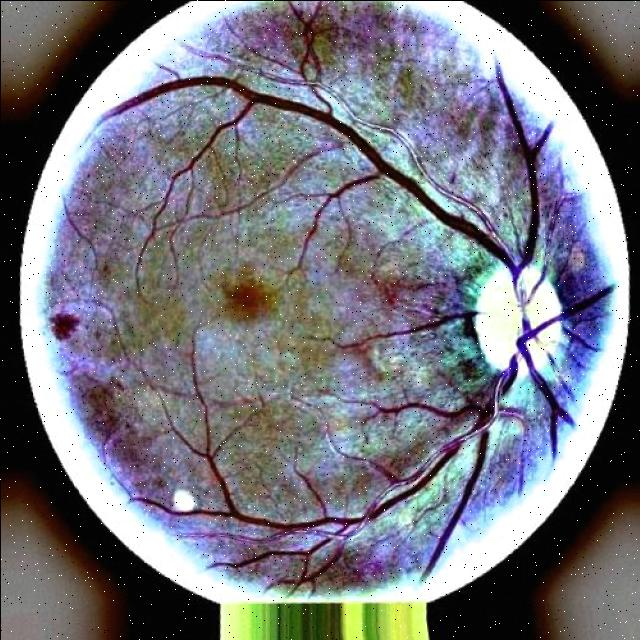Macula: (223, 269, 278, 321)
Nerves: (100, 0, 612, 590)
Optic Disk: (474, 268, 561, 369), (530, 328, 559, 358)
